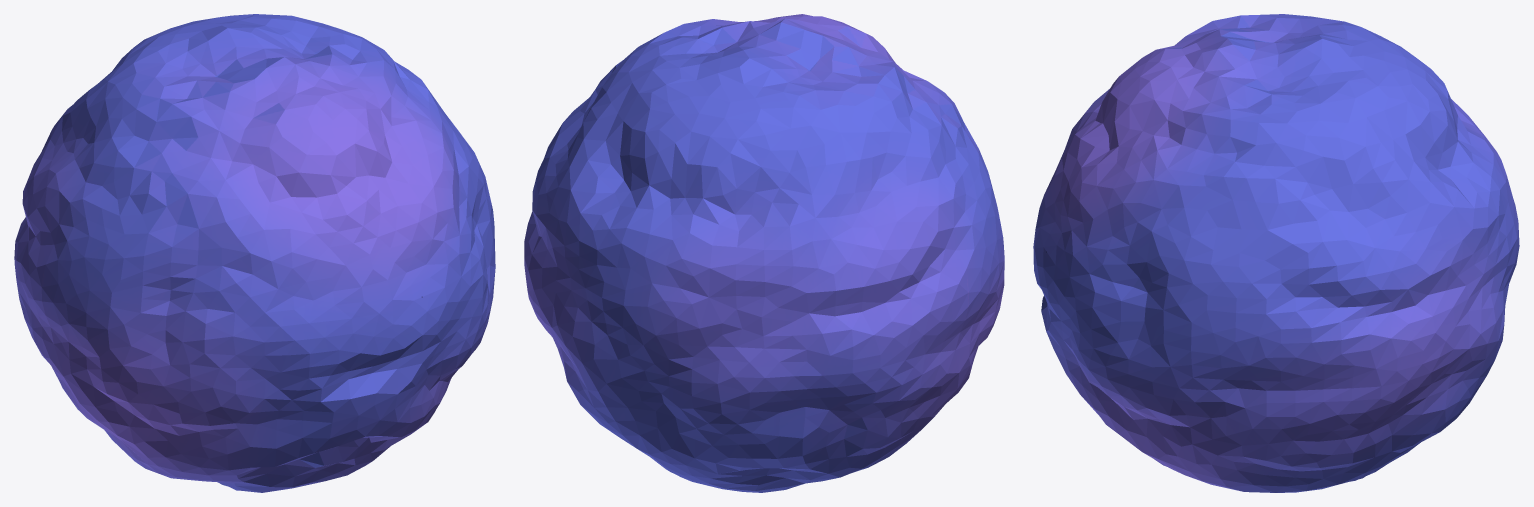
Rendered from neptune.gltf.
3 renders of one model, left to right at view 1: azimuth 30°, elevation 25°; view 2: azimuth 150°, elevation 25°; view 3: azimuth 270°, elevation 25°, orthographic.
Parts seen in each view (by area): view 1: Neptun; view 2: Neptun; view 3: Neptun.
Part boxes in pixels (x1=…): Neptun: x1=14, y1=14, x2=495, y2=492; Neptun: x1=524, y1=14, x2=1004, y2=492; Neptun: x1=1033, y1=14, x2=1519, y2=492.
Size of the model in its own units: 2.02 by 1.98 by 2.01.
1 material, 1 textured.
